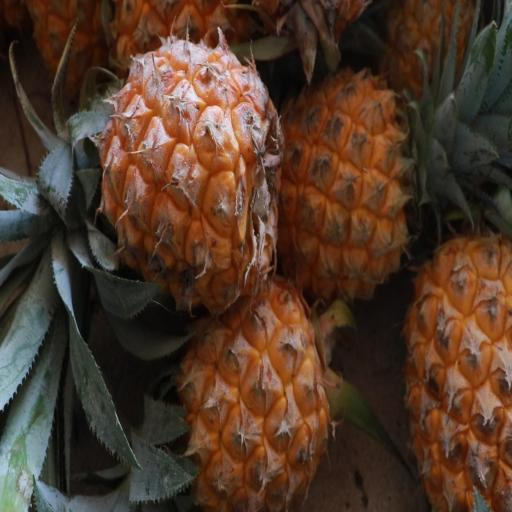Pineapple - v8 v1: (39, 32, 293, 326), (283, 60, 462, 316), (162, 264, 339, 512), (402, 230, 512, 512)
